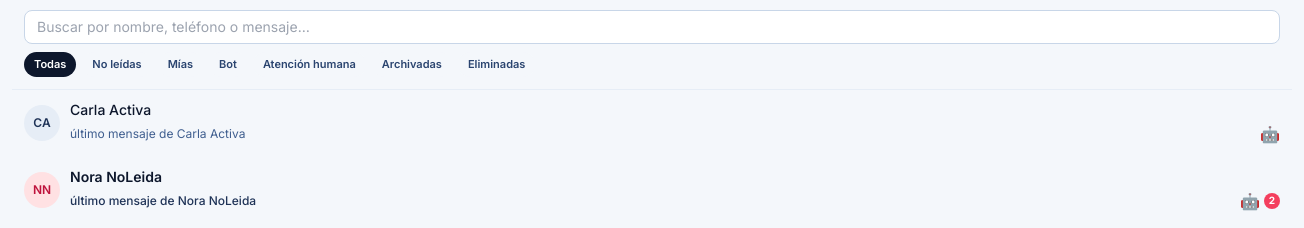
Test case: ConversationList — filtros › chip «Archivadas» muestra SOLO las archivadas
This screenshot has width=1304, height=228.
Click the button "Archivadas" at coordinates (412, 64), box [372,52,452,76]
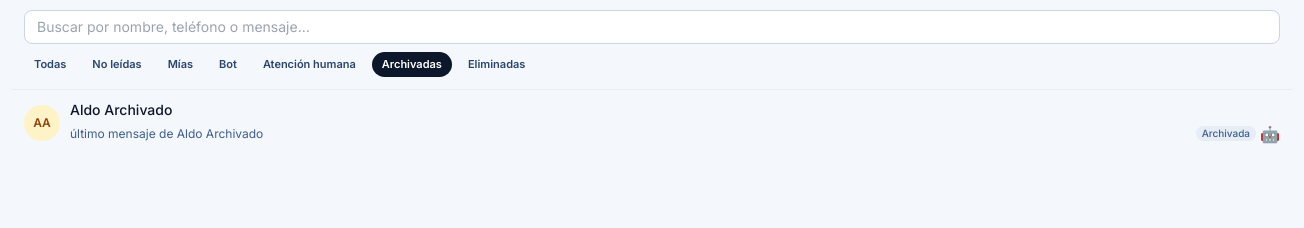
Expected: the text "Aldo Archivado" is shown, [70,100,172,120]
Expected: the button "Carla Activa" is gone
